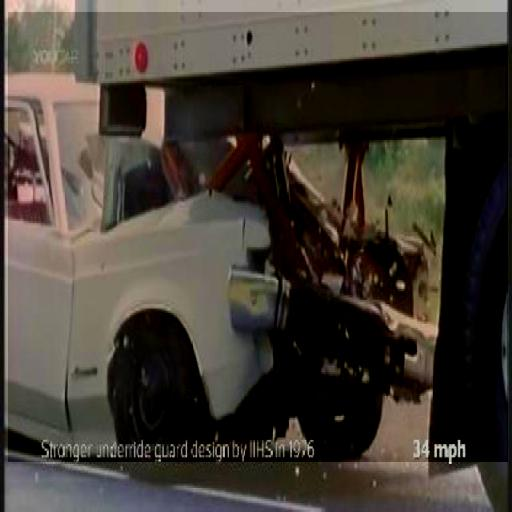小汽车撞小汽车: (8, 12, 508, 462)
